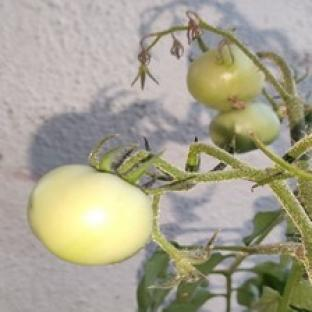Tomato: (28, 165, 153, 264), (187, 45, 264, 111), (209, 102, 279, 153)
